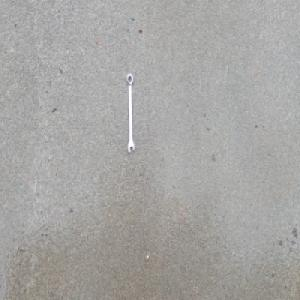Wrench: (126, 72, 136, 154)
